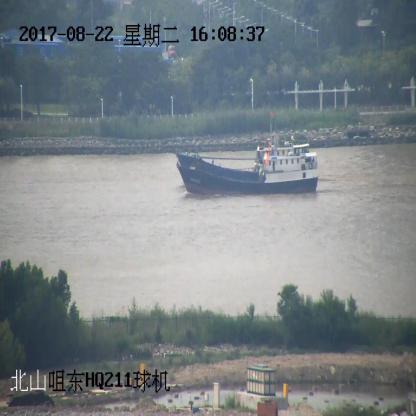Fishing Boat: (176, 110, 314, 181), (178, 140, 318, 196)
